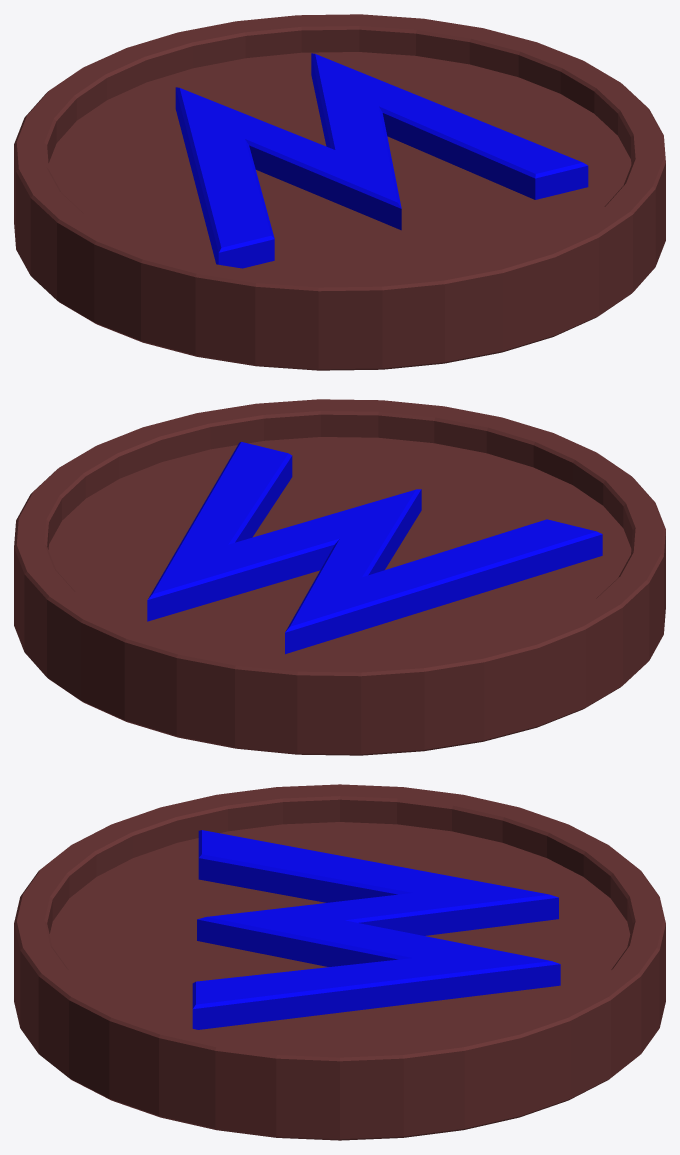
File: MaxManaCoin.fbx
3 views of the same model, one above another, from view 1: azimuth 30°, elevation 25°; view 2: azimuth 150°, elevation 25°; view 3: azimuth 270°, elevation 25° (orthographic).
Parts seen in each view (by area): view 1: Coin; view 2: Coin; view 3: Coin.
Part boxes in pixels (box(x1,y1,x2,y2)): Coin: box(14, 14, 665, 370); Coin: box(14, 399, 665, 755); Coin: box(14, 784, 665, 1140).
Size of the model in its own units: 200 by 28.06 by 200.
